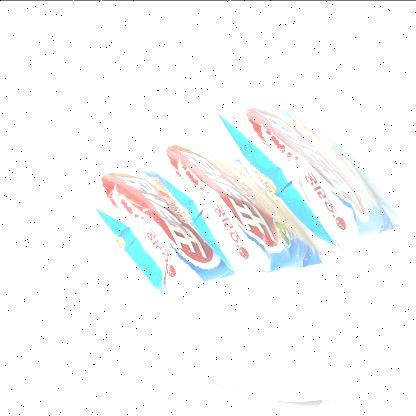Others: (53, 81, 405, 304)
